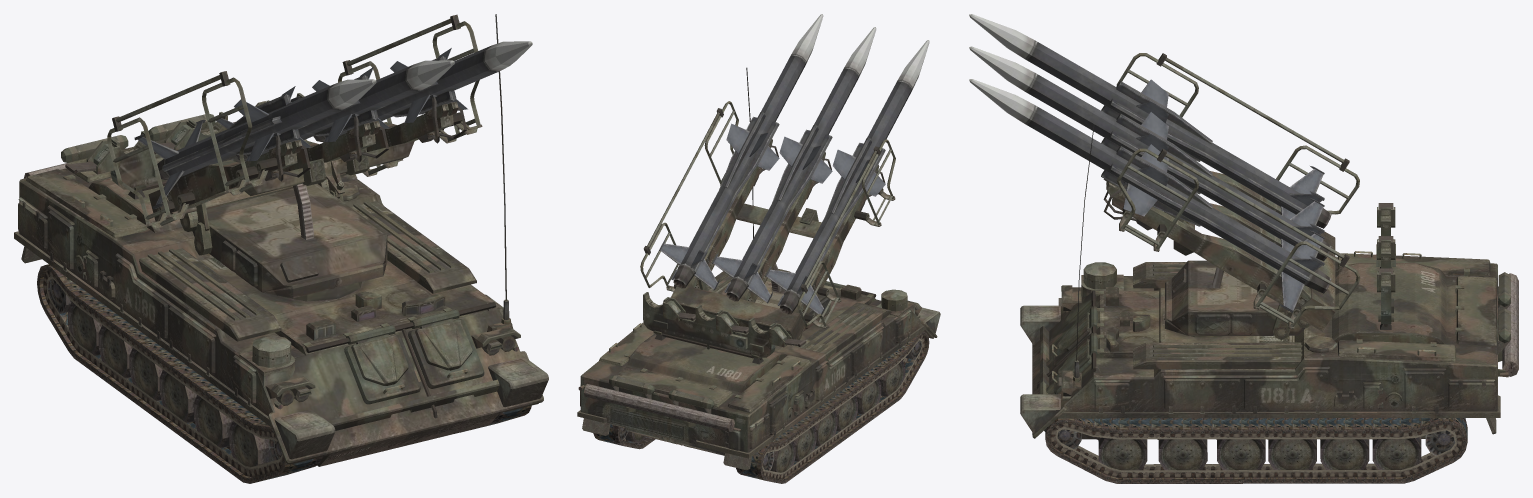
Rendered from Tank.dae.
3 renders of one model, left to right at view 1: azimuth 30°, elevation 25°; view 2: azimuth 150°, elevation 25°; view 3: azimuth 270°, elevation 25°, orthographic. The views are drawn at different scales.
Visible parts, largest first — view 1: Tank; view 2: Tank; view 3: Tank.
Part boxes in pixels (x1,y1,x2,y2): Tank: [14, 14, 548, 483]; Tank: [577, 14, 940, 483]; Tank: [969, 14, 1518, 483].
Size of the model in its own units: 1.19 by 2.5 by 1.94.
